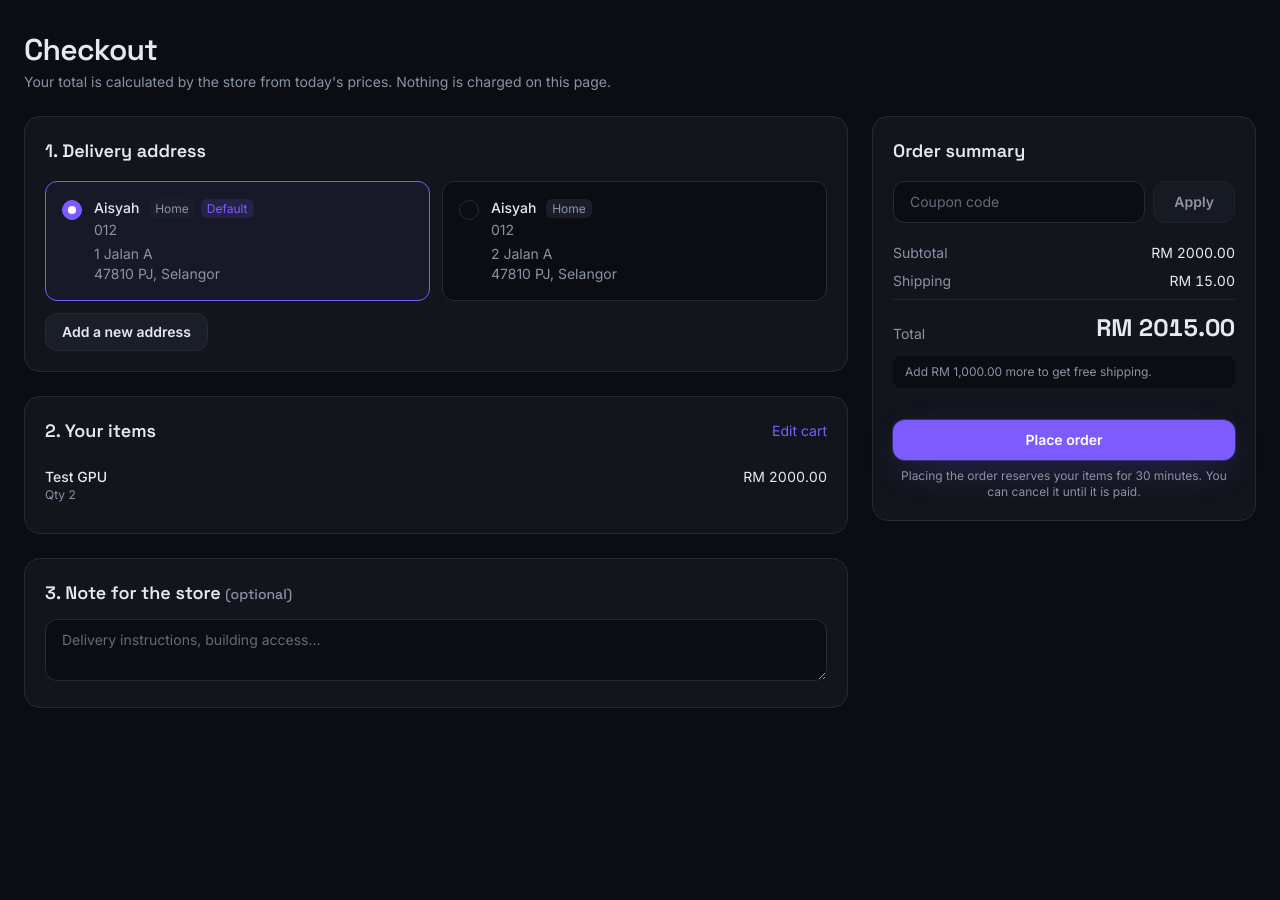
Test: Checkout page › prices the order again when another address is chosen (shipping depends on the state)
Click the radio button labelled "Aisyah Home 012 2 Jalan A 47810 PJ, Selangor" at (516, 208), box [442, 181, 827, 301]
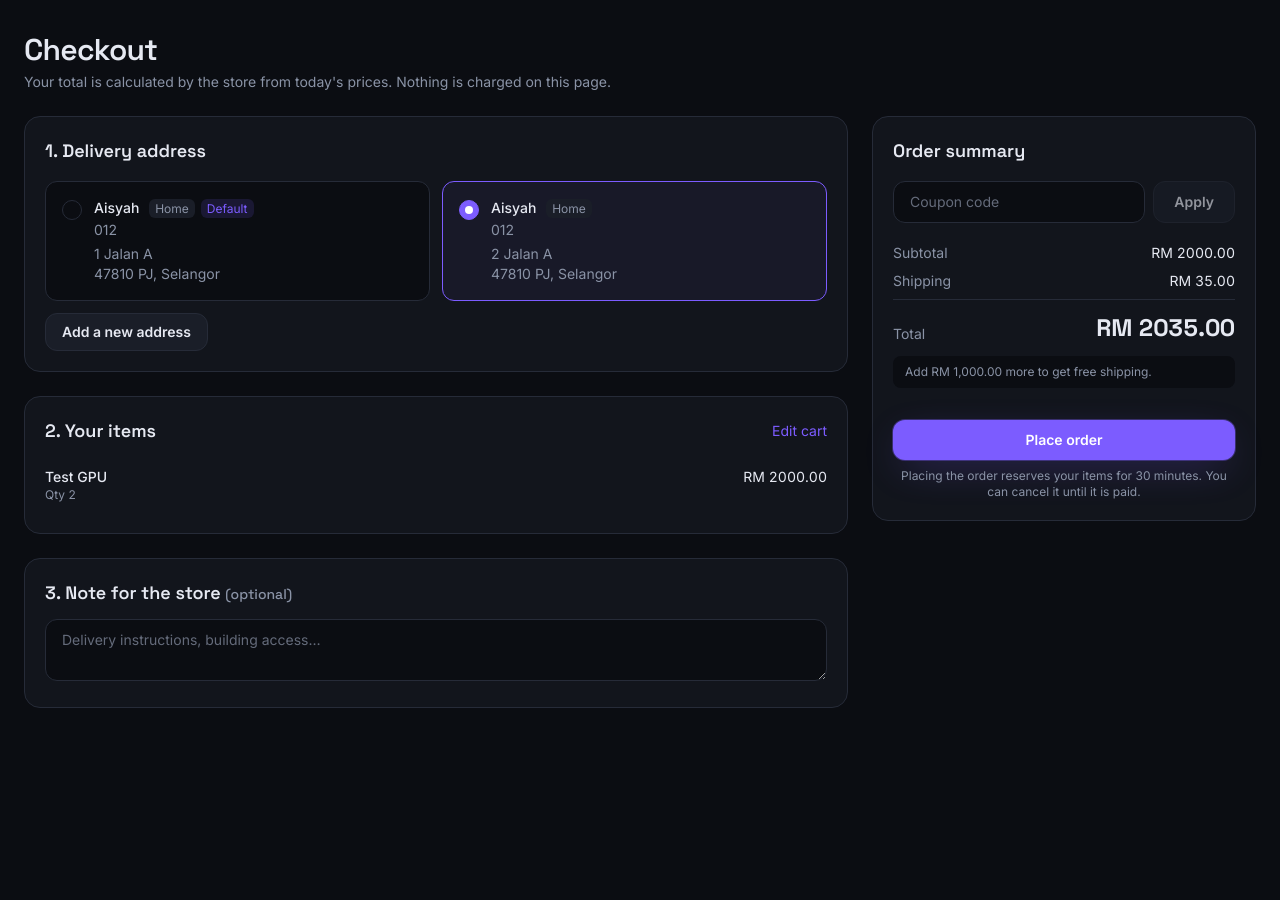
Result: the text with test id "total" reads "RM 2035.00" at [1096, 312, 1235, 343]
